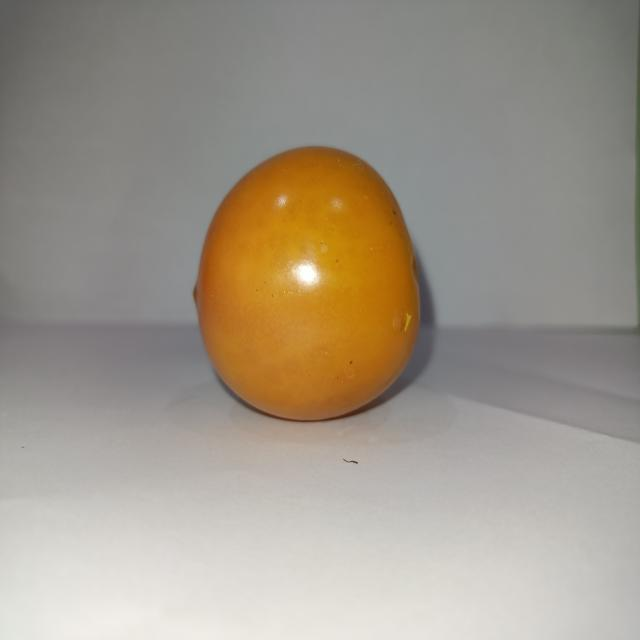Red: (192, 144, 422, 422)
